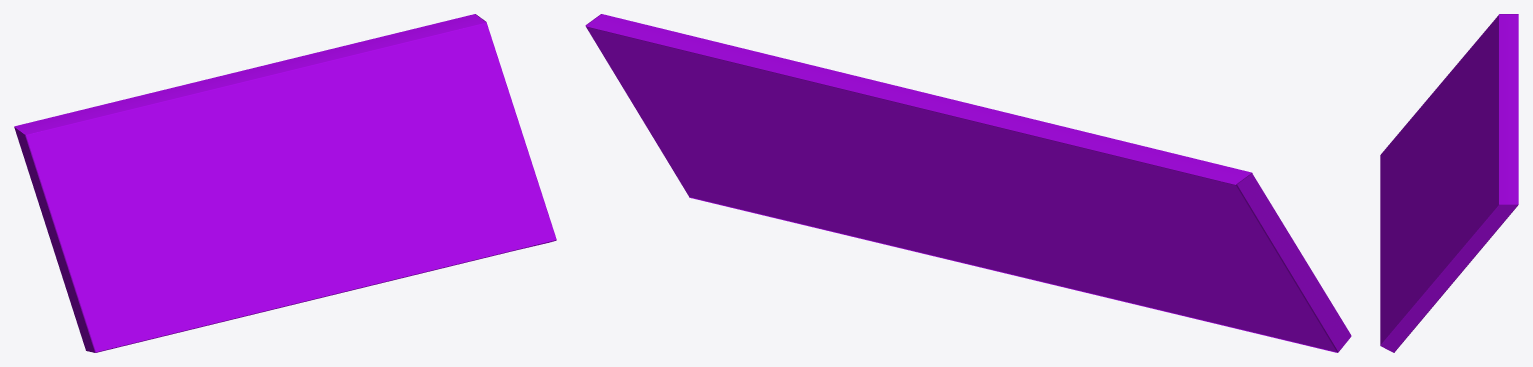
File: Cabinet_In.fbx
3 renders of one model, left to right at view 1: azimuth 30°, elevation 25°; view 2: azimuth 150°, elevation 25°; view 3: azimuth 270°, elevation 25°, orthographic. The views are drawn at different scales.
Visible parts, largest first — view 1: Cabinet_In; view 2: Cabinet_In; view 3: Cabinet_In.
Boxes of the visible parts, x1,y1,x2,y2 form: Cabinet_In: (14, 14, 556, 352); Cabinet_In: (585, 14, 1351, 352); Cabinet_In: (1380, 14, 1518, 352).
Size of the model in its own units: 95.71 by 34.73 by 29.33.
